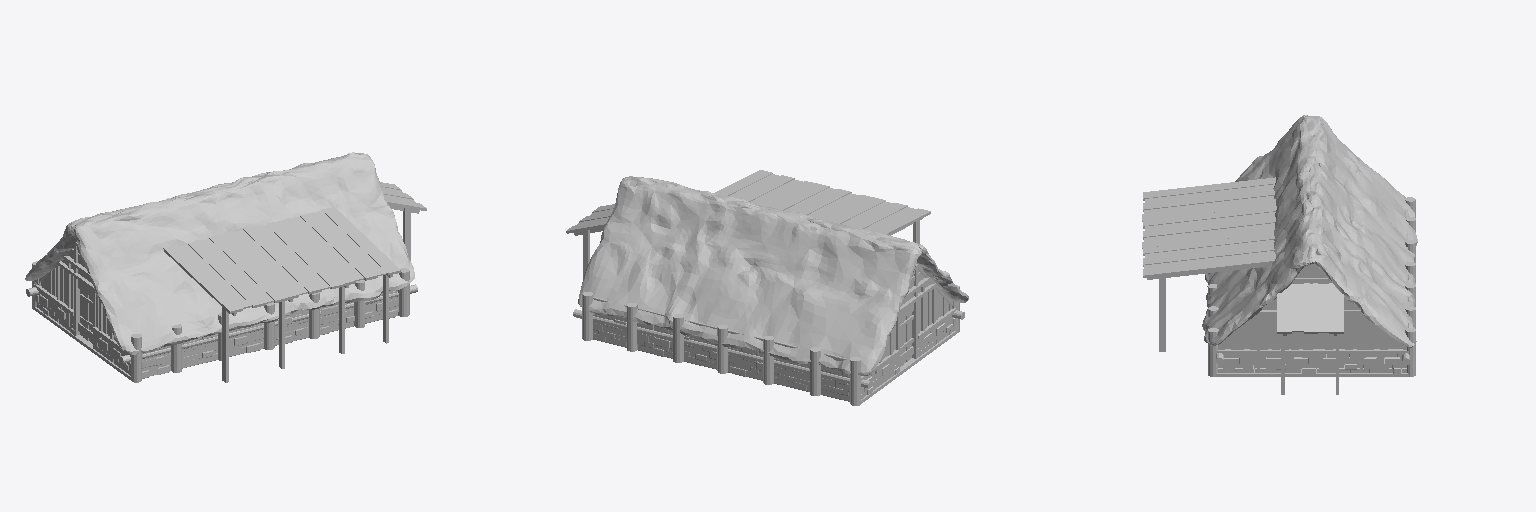
Rendered from lowpoly_viking_house_005.obj.
3 renders of one model, left to right at view 1: azimuth 30°, elevation 25°; view 2: azimuth 150°, elevation 25°; view 3: azimuth 270°, elevation 25°, orthographic.
Parts seen in each view (by area): view 1: Plane.014, Wall.136, Cube.2594, Cube.2604, Cube.2593, Cube.2609, Cube.2607, Cube.2591, Cube.2602, Cube.2601, Cube.2610, Cylinder.111 (+7 smaller); view 2: Plane.014, Wall.136, Cylinder.112, Cube.2430, Cube.2594; view 3: Plane.014, Wall.136, Cube.2609, Cube.2604, Cube.2591, Cube.2607, Cube.2594, Cube.2593, Cube.2602, Cube.2601, Cube.2610, Cube.2534 (+10 smaller).
Part boxes in pixels (x1,y1,x2,y2): Plane.014: (25,153,414,354); Wall.136: (35,279,398,378); Cube.2594: (163,245,242,313); Cube.2604: (243,226,321,294); Cube.2593: (209,234,287,302); Cube.2609: (321,207,400,275); Cube.2607: (300,212,378,280); Cube.2591: (188,240,265,307); Cube.2602: (266,221,344,288); Cube.2601: (222,231,298,299); Cube.2610: (279,218,355,285); Cylinder.111: (120,284,417,363); Plane.014: (578,176,968,375); Wall.136: (593,297,956,401); Cylinder.112: (573,309,871,388); Cube.2430: (900,304,913,366); Cube.2594: (874,208,930,234); Plane.014: (1202,115,1417,347); Wall.136: (1218,209,1408,373); Cube.2609: (1143,255,1275,277); Cube.2604: (1143,216,1275,239); Cube.2591: (1143,189,1274,211); Cube.2607: (1143,244,1274,266); Cube.2594: (1143,177,1275,200); Cube.2593: (1142,199,1275,221); Cube.2602: (1142,227,1274,248); Cube.2601: (1143,206,1276,228); Cube.2610: (1143,233,1274,255); Cube.2534: (1216,349,1408,353).
Bounding box in the file's own units: 7.15 × 2.56 × 5.